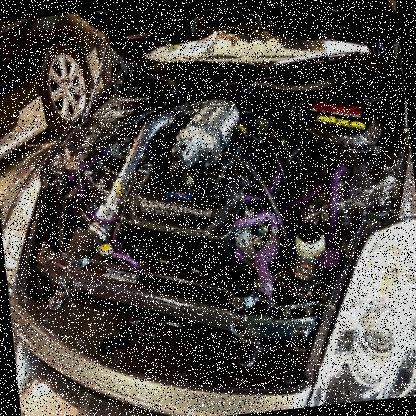Car: (0, 0, 415, 415), (0, 10, 122, 173)
